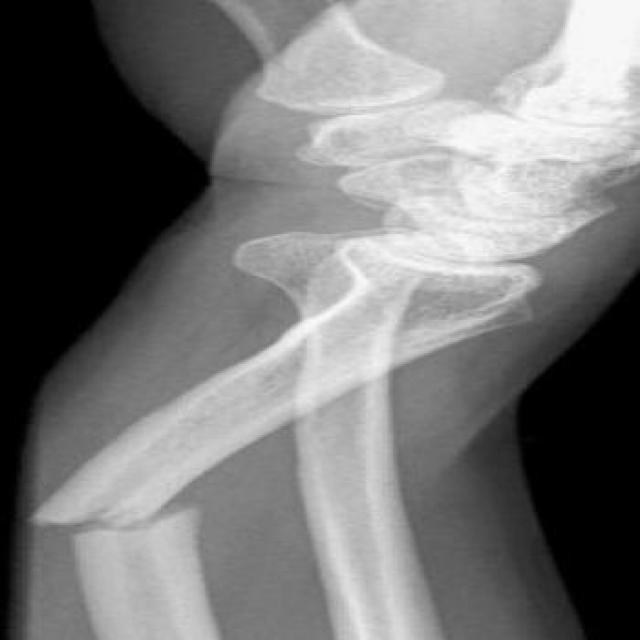Fracture: (19, 482, 239, 558)
